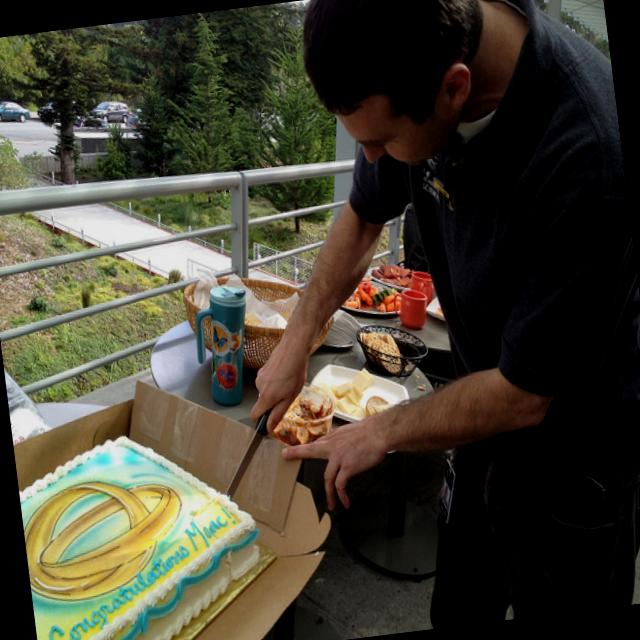Vehicle: (91, 98, 131, 125), (0, 97, 31, 126), (70, 112, 110, 130), (36, 101, 56, 120), (124, 114, 141, 127)
